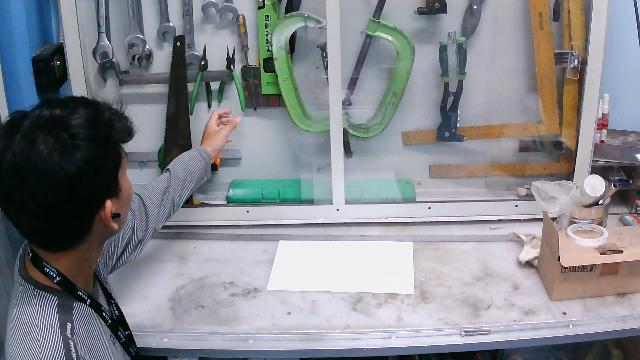tang_cucut_lancip_1: (215, 38, 247, 117)
